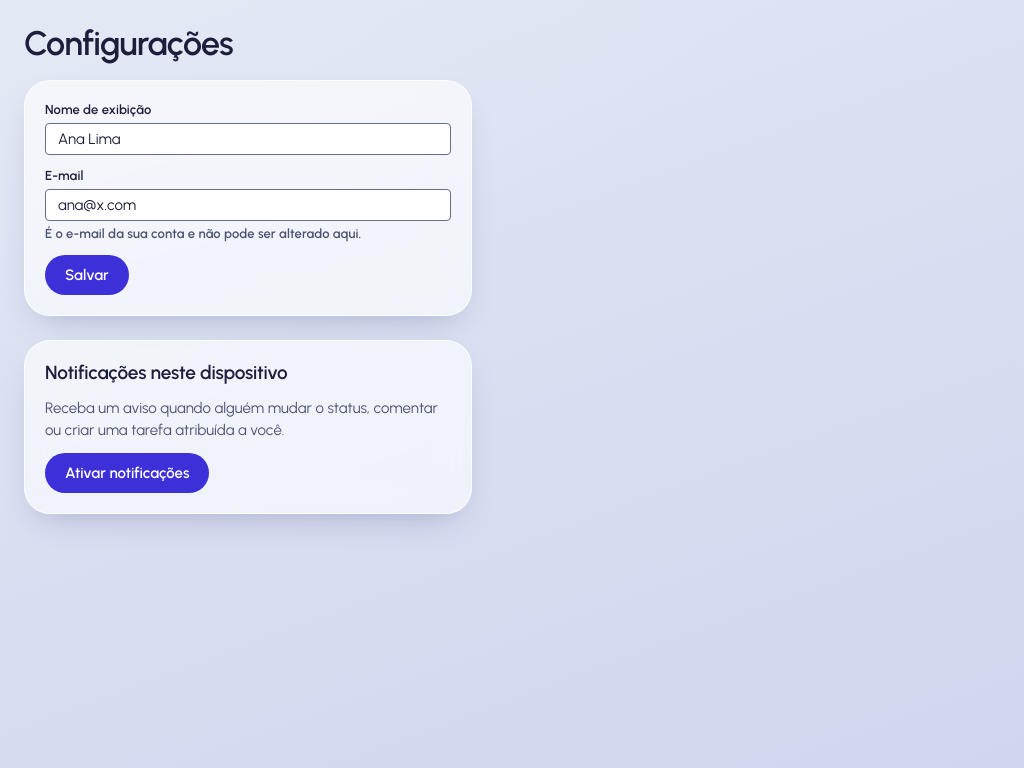
Scenario: ConfiguracoesPage › salva o nome sem espaços nas pontas e confirma
Replace the text in the field labelled "Nome de exibição" with "  Ana Souza  " at (248,139), box [45,123,451,155]
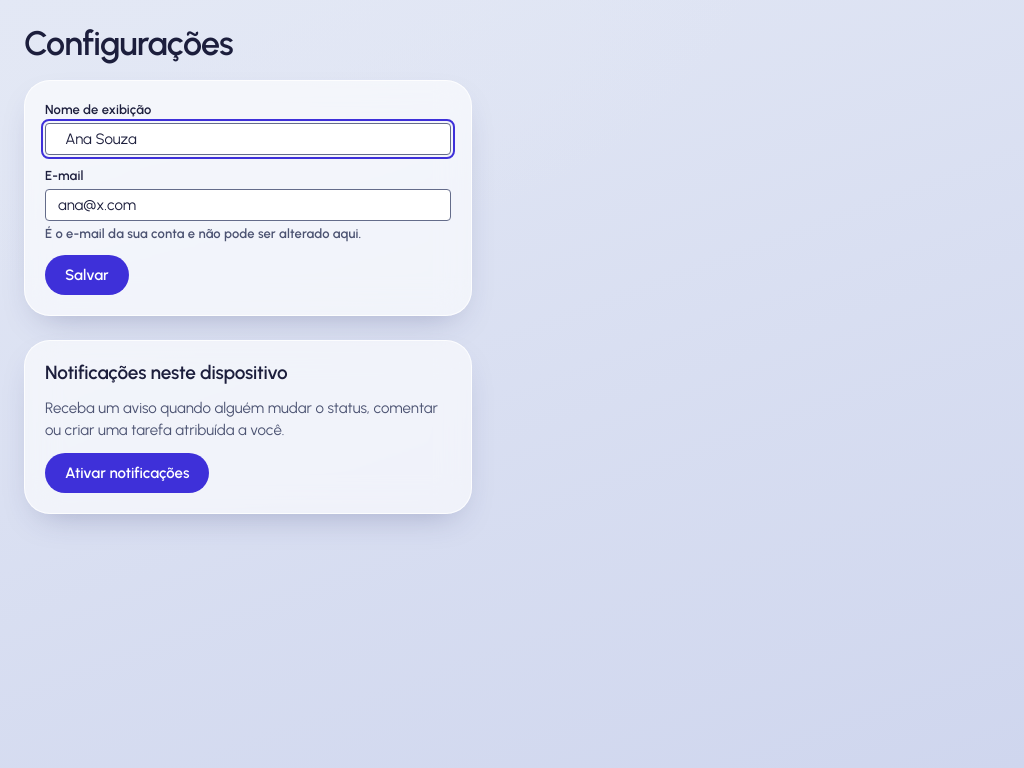
Click the button "Salvar" at (87,275), box [45,255,129,295]
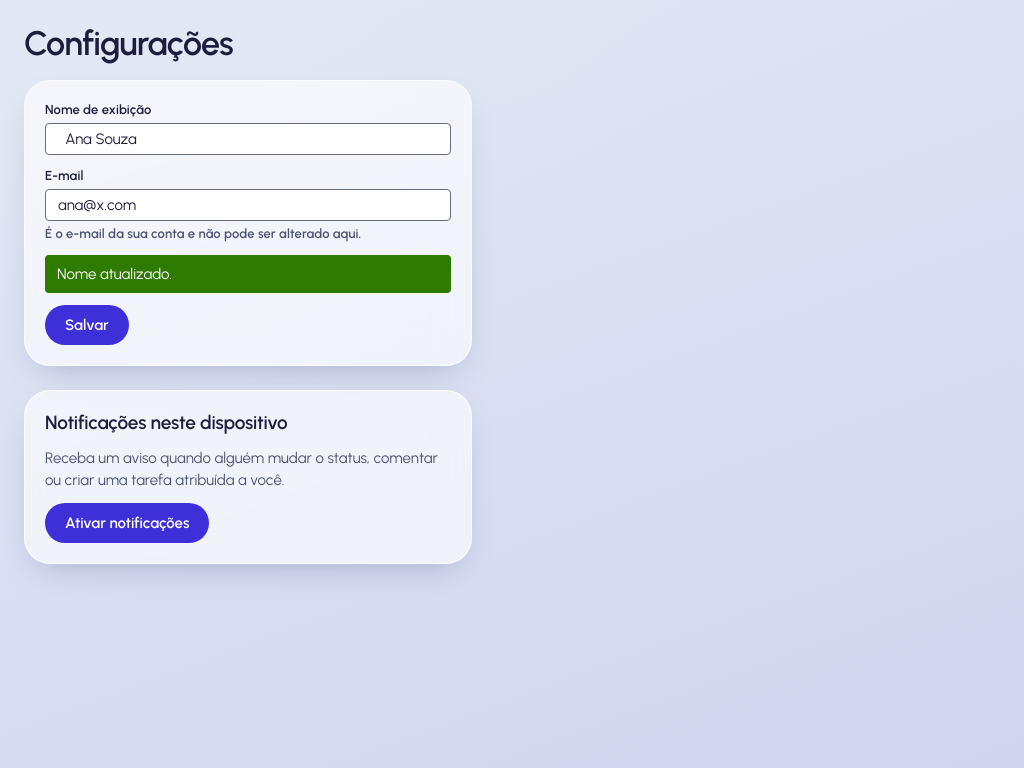
Expected: the text "Nome atualizado." is shown, [45,255,451,293]
